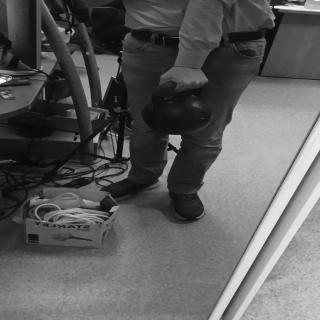kettlebell: (142, 79, 216, 135)
